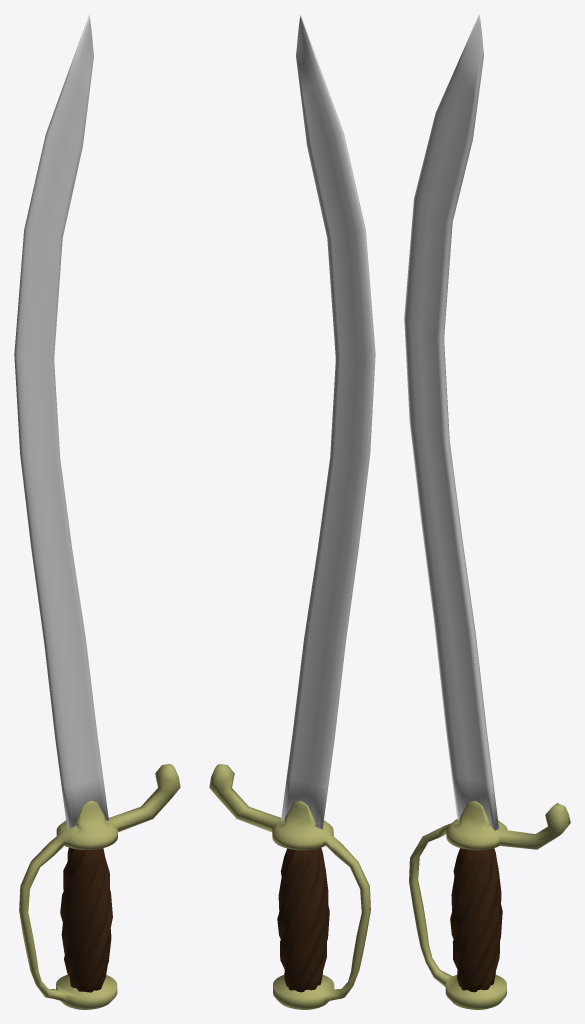
The model's file is Saber.glb.
3 renders of one model, left to right at view 1: azimuth 30°, elevation 25°; view 2: azimuth 150°, elevation 25°; view 3: azimuth 330°, elevation 25°, orthographic.
Parts seen in each view (by area): view 1: Cube; view 2: Cube; view 3: Cube.
Part boxes in pixels (x1,y1,x2,y2): Cube: (14,14,180,1009); Cube: (209,14,375,1009); Cube: (404,14,570,1009).
Bounding box in the file's own units: 0.0245 × 0.1422 × 0.00801.
